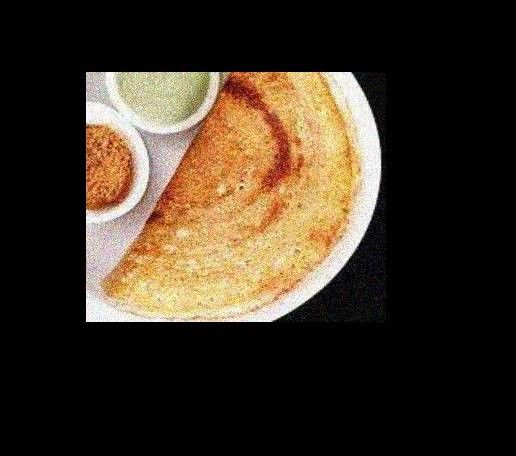dosa: (99, 69, 363, 322)
